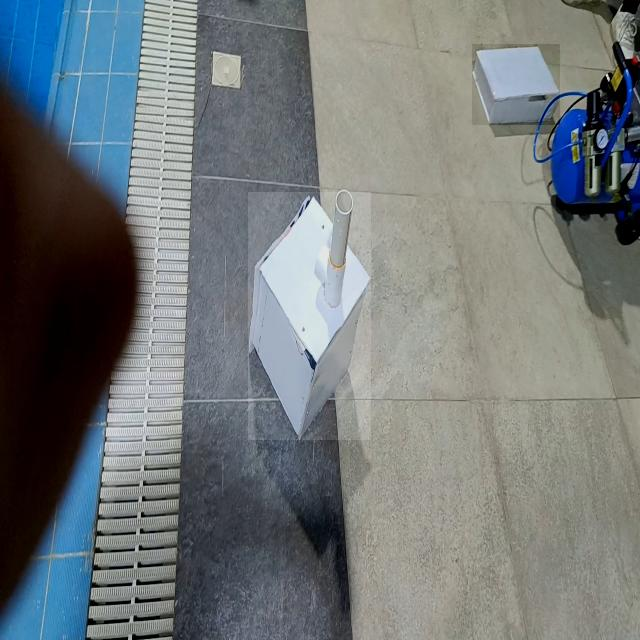Cube: (248, 192, 371, 440)
Cuboid: (472, 44, 560, 125)
